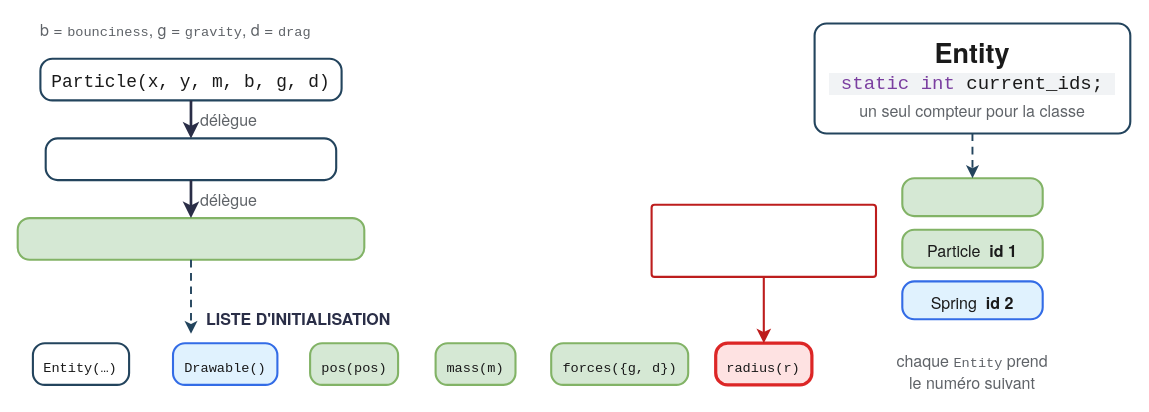
Some shapes in this 1149 by 412 pixel diagram are drawn without their labels. Here are the shapes that lost their labels. From the top down, the centre of each, then its label:
At (190,159): "Particle(pos, m, b, g, d)".
At (972,197): "Particle id 0".
At (190,238): "Particle(pos, m, r , b, g, d)".
At (763,240): "const float radius ne s'écrit que dans la liste".
